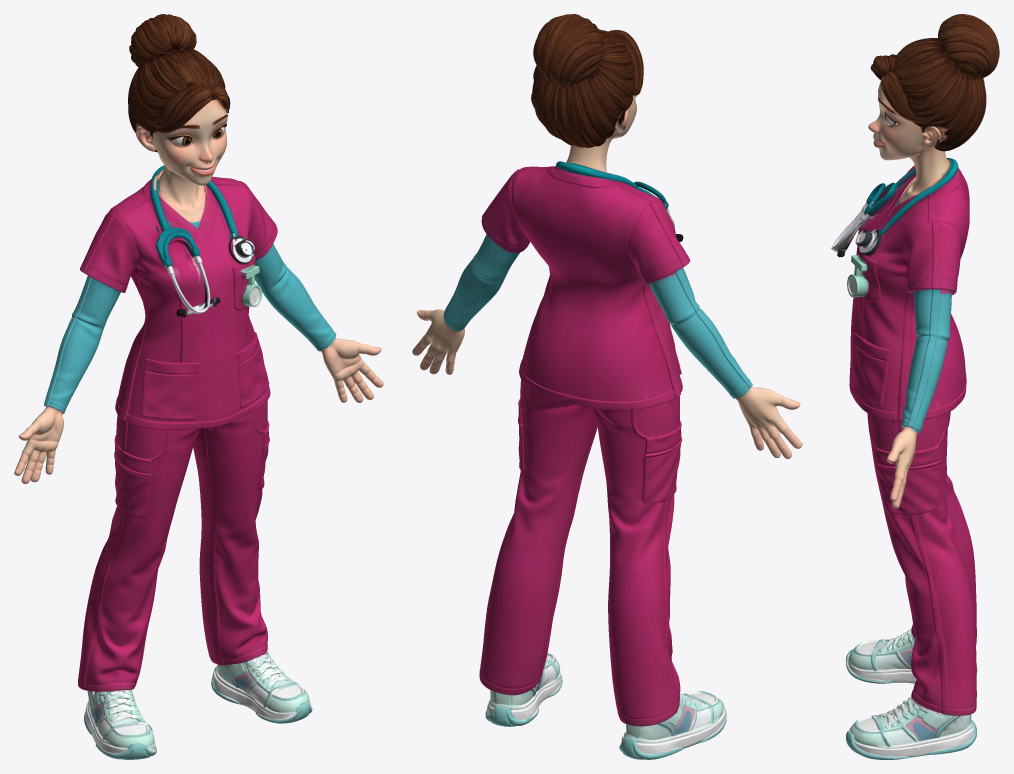
The model's file is mother-sorena.glb.
3 views of the same model, side by side, from view 1: azimuth 30°, elevation 25°; view 2: azimuth 150°, elevation 25°; view 3: azimuth 270°, elevation 25° (orthographic). The views are drawn at different scales.
Parts seen in each view (by area): view 1: nurse; view 2: nurse; view 3: nurse.
Part boxes in pixels (bbox=[...]): nurse: bbox=[14, 14, 383, 759]; nurse: bbox=[412, 14, 802, 759]; nurse: bbox=[831, 14, 999, 759].
Size of the model in its own units: 0.9485 by 1.68 by 0.3699.
1 material, 1 textured.
